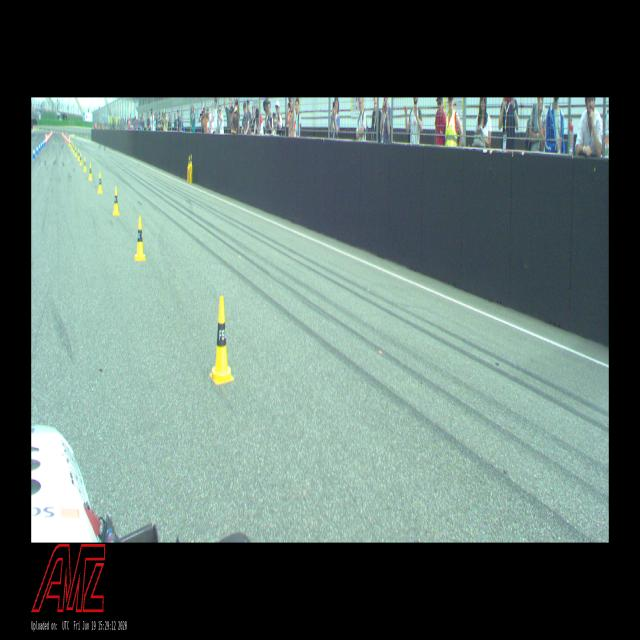blue_cone: (32, 146, 36, 158), (38, 141, 41, 152), (36, 143, 38, 155), (42, 139, 44, 148), (44, 138, 46, 145), (41, 140, 42, 149)
yellow_cone: (210, 298, 234, 384), (135, 216, 146, 261), (112, 186, 120, 216), (97, 172, 103, 194), (88, 163, 93, 181), (83, 157, 87, 172), (79, 152, 82, 165), (77, 150, 80, 160), (74, 146, 76, 157), (72, 144, 74, 154), (71, 143, 73, 151)
